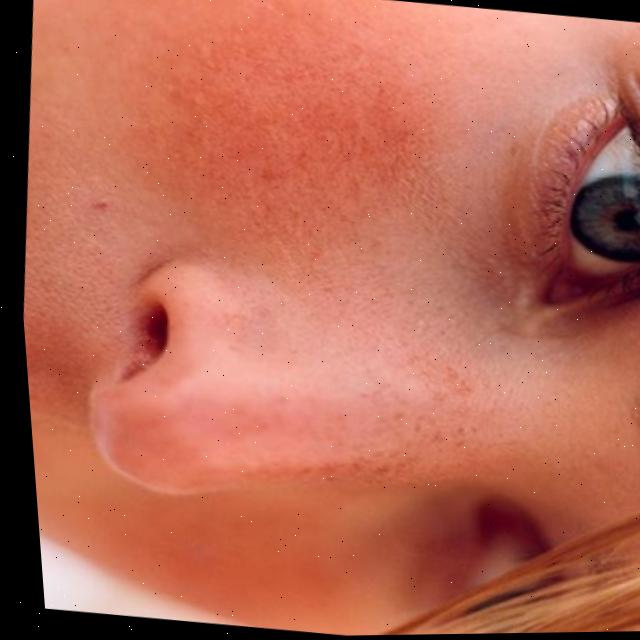Rosacea: (134, 0, 415, 244), (342, 328, 468, 502)
